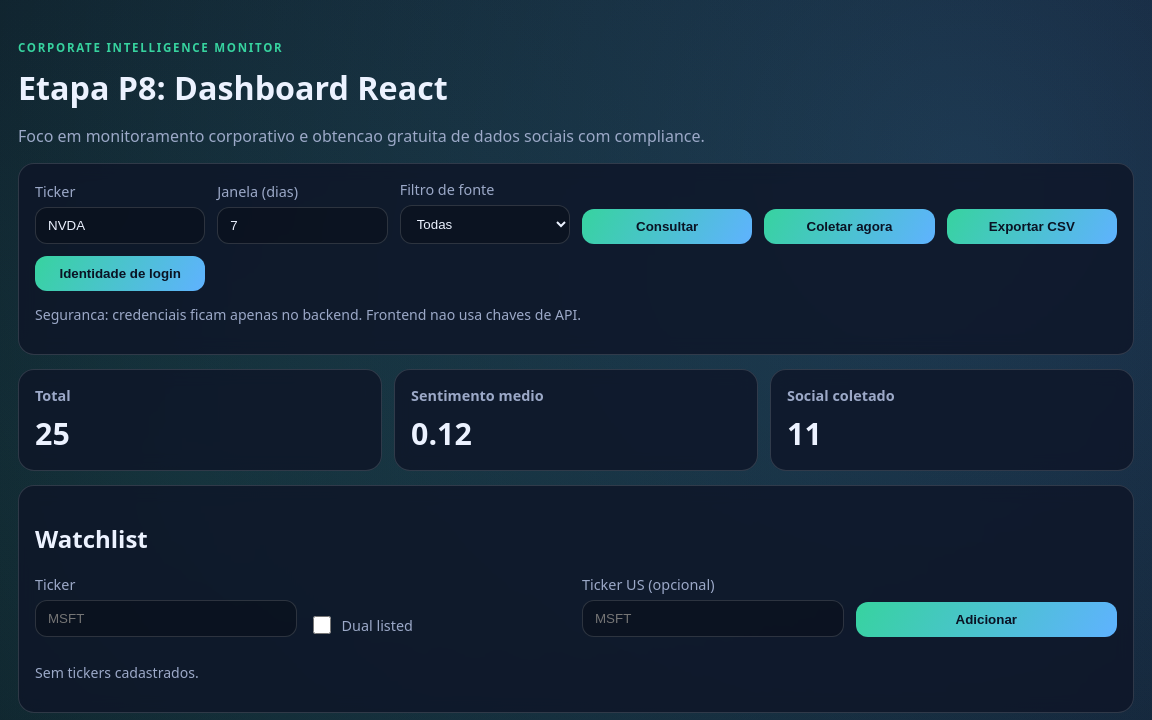
it: App › acompanha coleta por job_id ate completar e recarrega os paineis
Click the button "Coletar agora" at (849, 226), box [764,209,935,244]
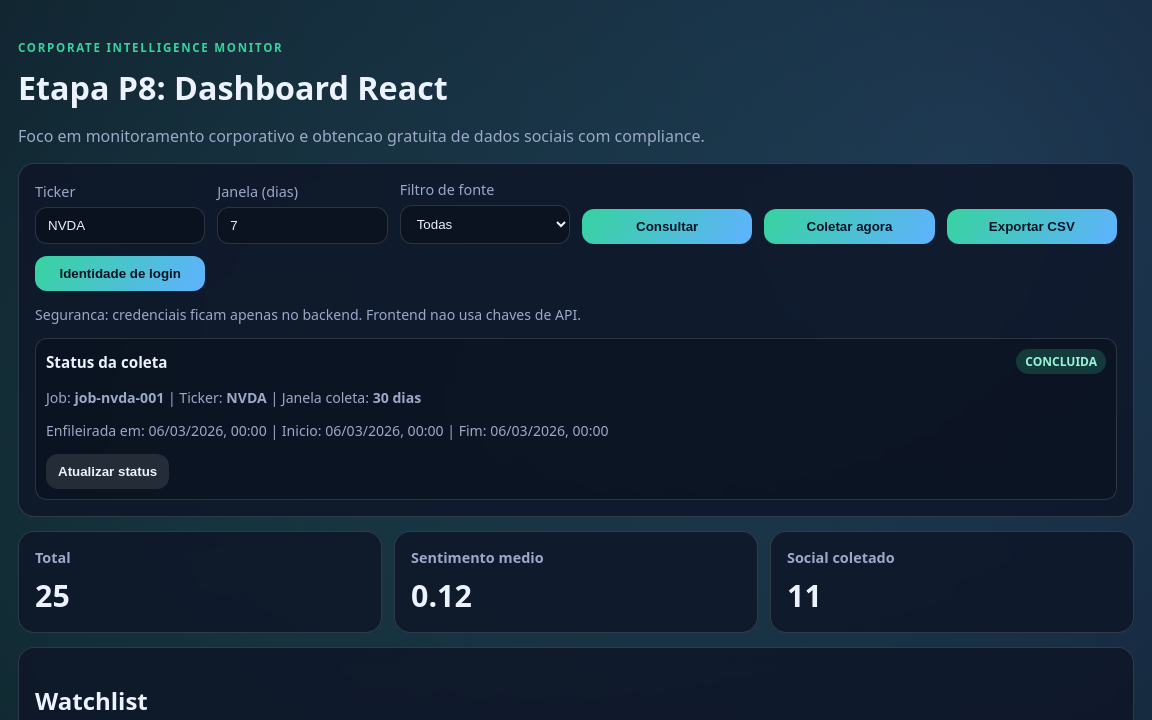
Result: the heading "Status da coleta" is shown at [46,352,168,372]
Result: the message shows "Job: job-nvda-001" at [35,338,1117,500]
Result: the message shows "Janela coleta: 30 dias" at [35,338,1117,500]
